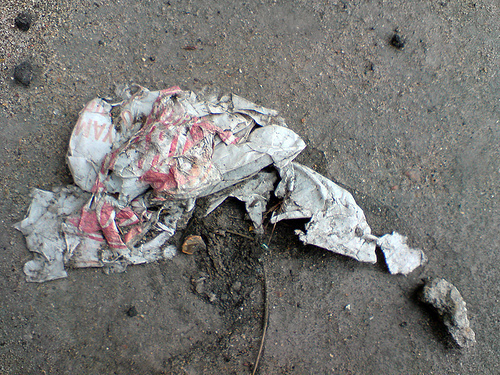litter: (26, 88, 421, 275)
